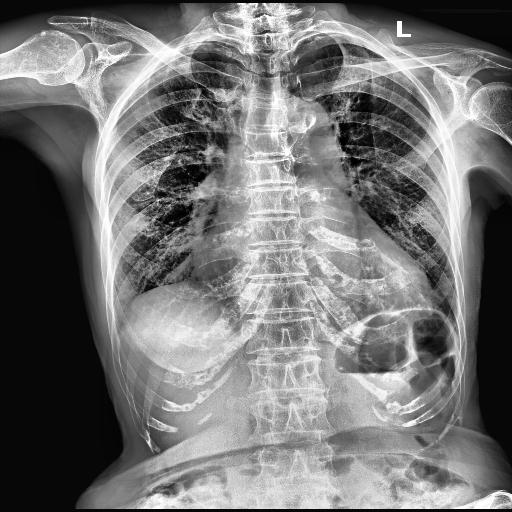0- Aortic enlargement: (266, 100, 340, 166), (264, 99, 342, 161), (273, 96, 335, 145)
11- Pleural thickening: (158, 40, 226, 53)
3- Cardiomegaly: (190, 238, 430, 322), (193, 232, 428, 308), (190, 250, 432, 306)
